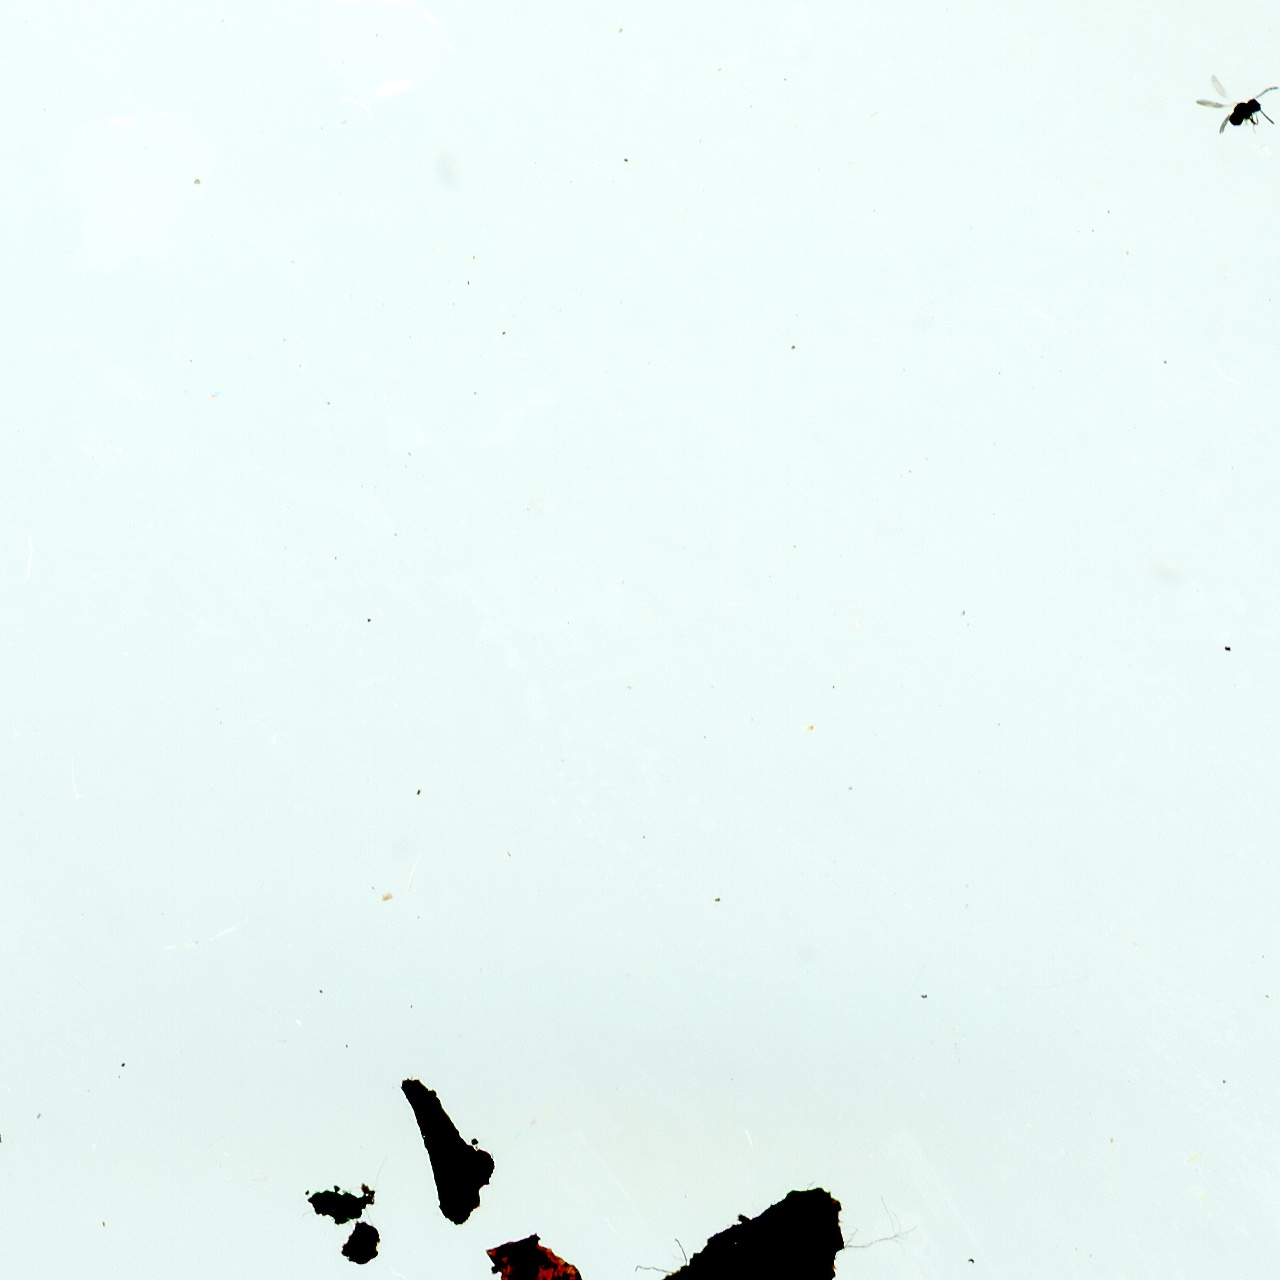arthropod: (1191, 72, 1280, 139)
